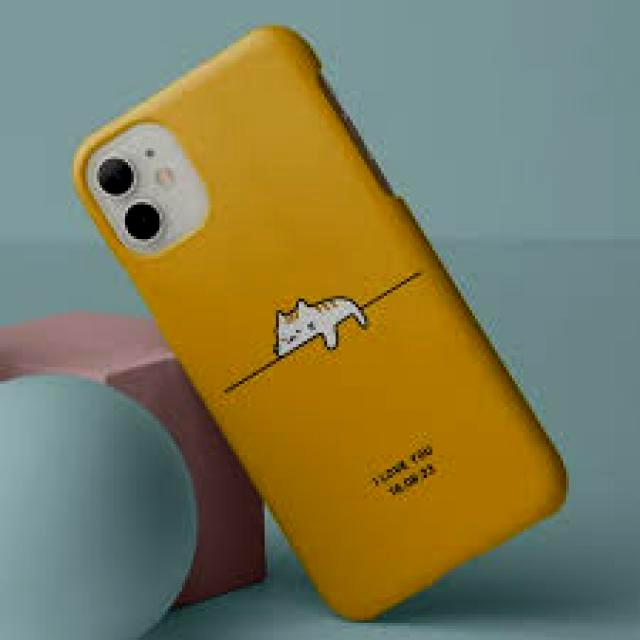lens: (92, 146, 184, 245)
phone: (72, 25, 566, 622)
